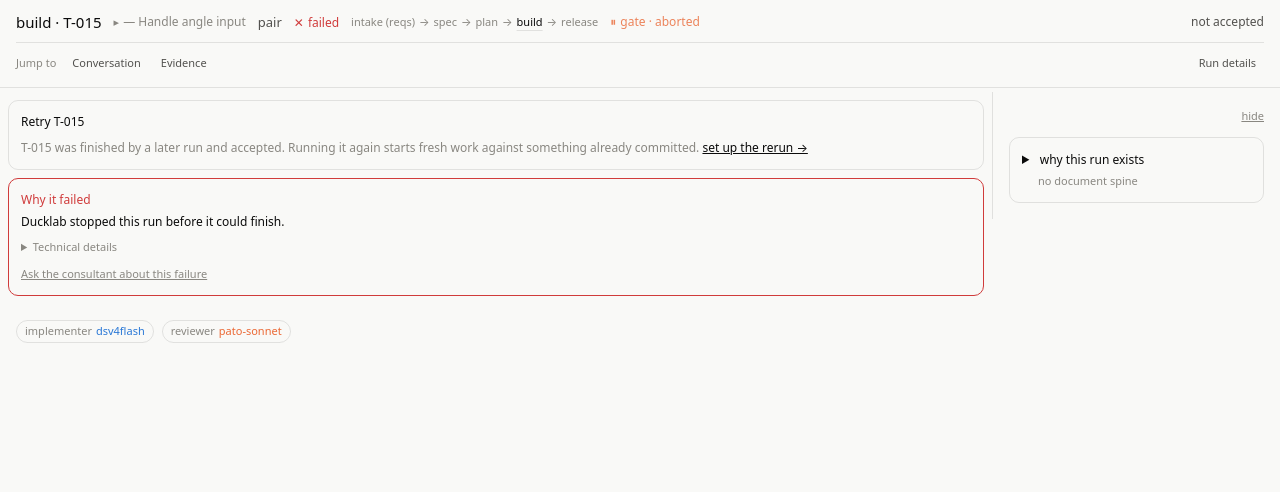
a failure whose task was finished later › gives the controls when asked anyway
Click the button with test id "relaunch-anyway".
click(755, 148)  # box [702,139,808,157]
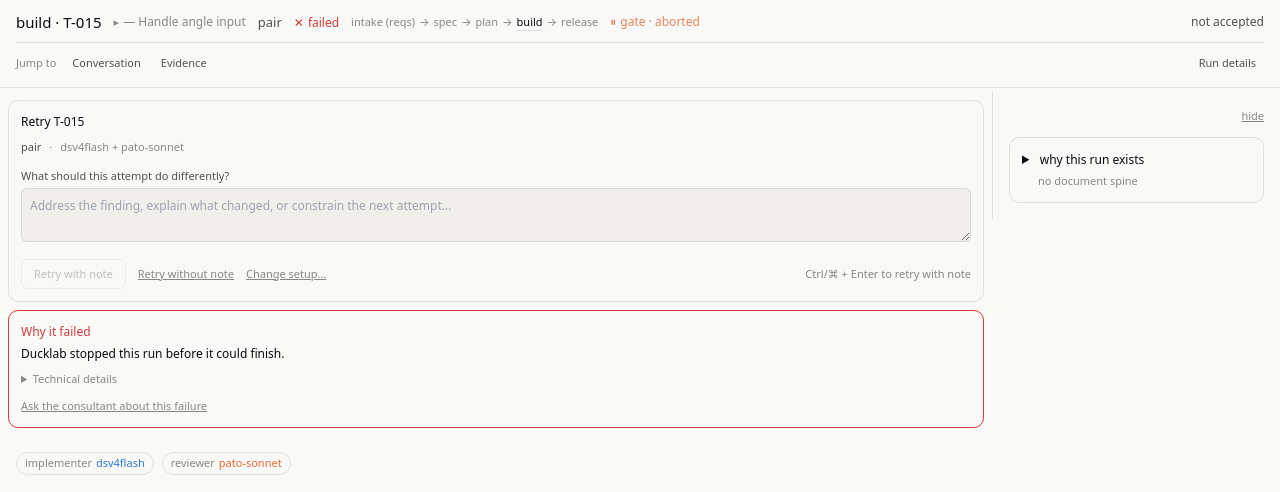
Expected: the button with test id "run-start" is shown, [21,258,126,289]
